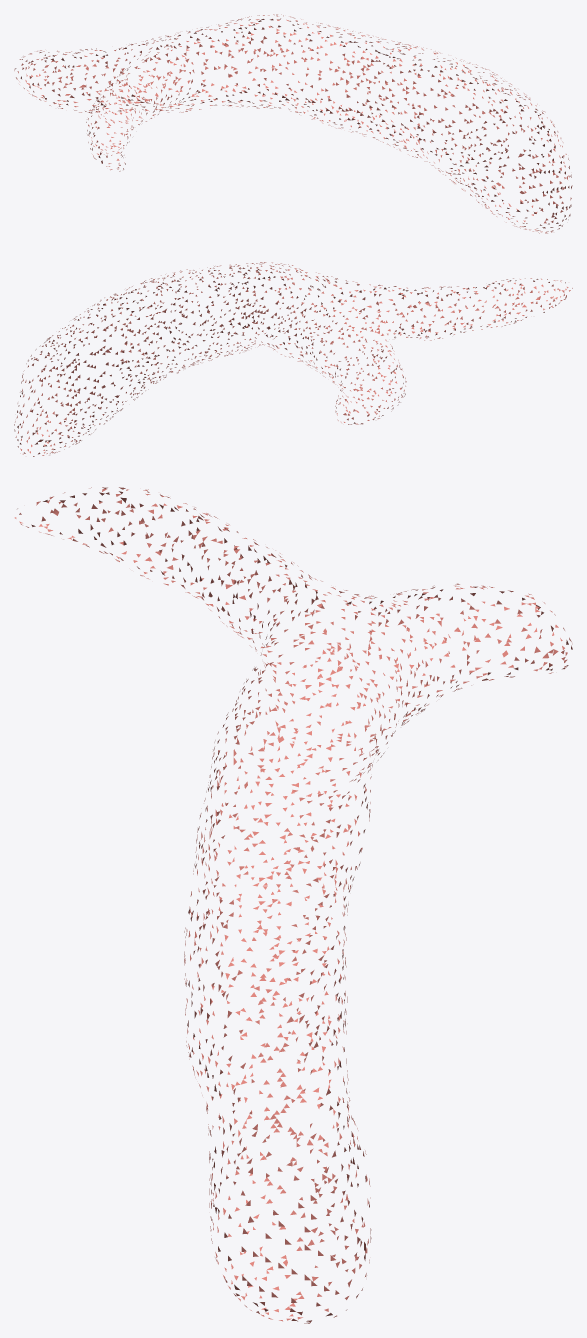
The model's file is morph_001.glb.
The picture shows the model from 3 angles, top to bottom: view 1: azimuth 30°, elevation 25°; view 2: azimuth 150°, elevation 25°; view 3: azimuth 270°, elevation 25°; orthographic projection. The views are drawn at different scales.
Size of the model in its own units: 113 by 56.34 by 63.42.
